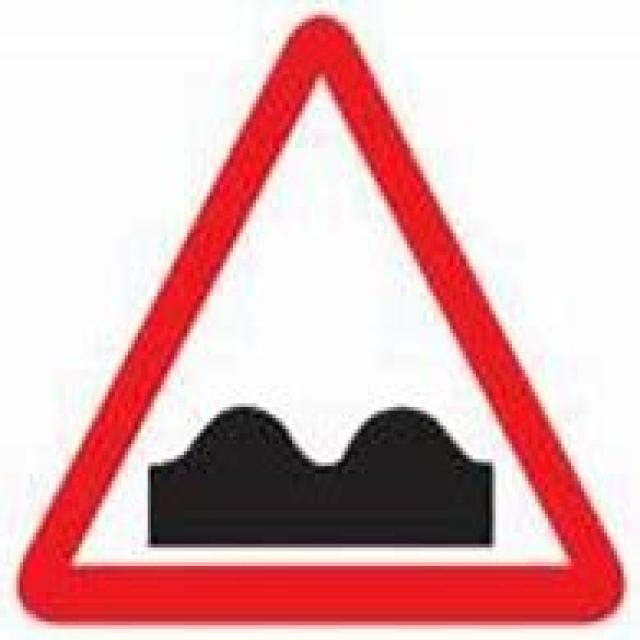BUMPS: (18, 18, 630, 626)
